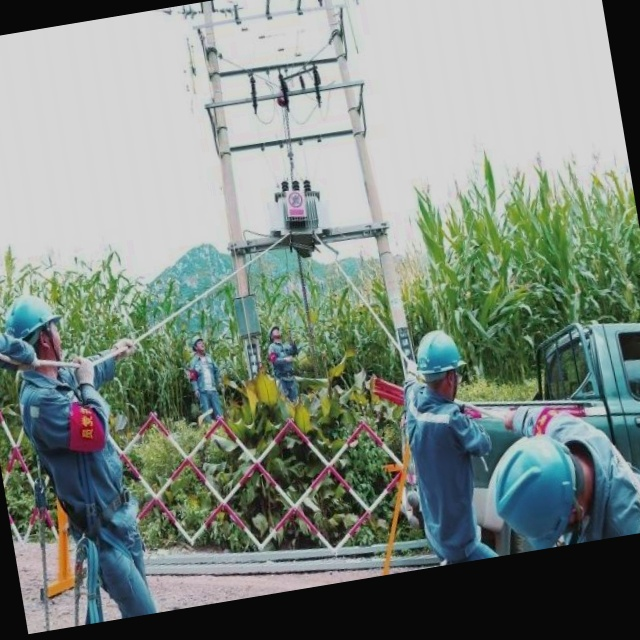Con_Casco: (410, 324, 469, 406)
